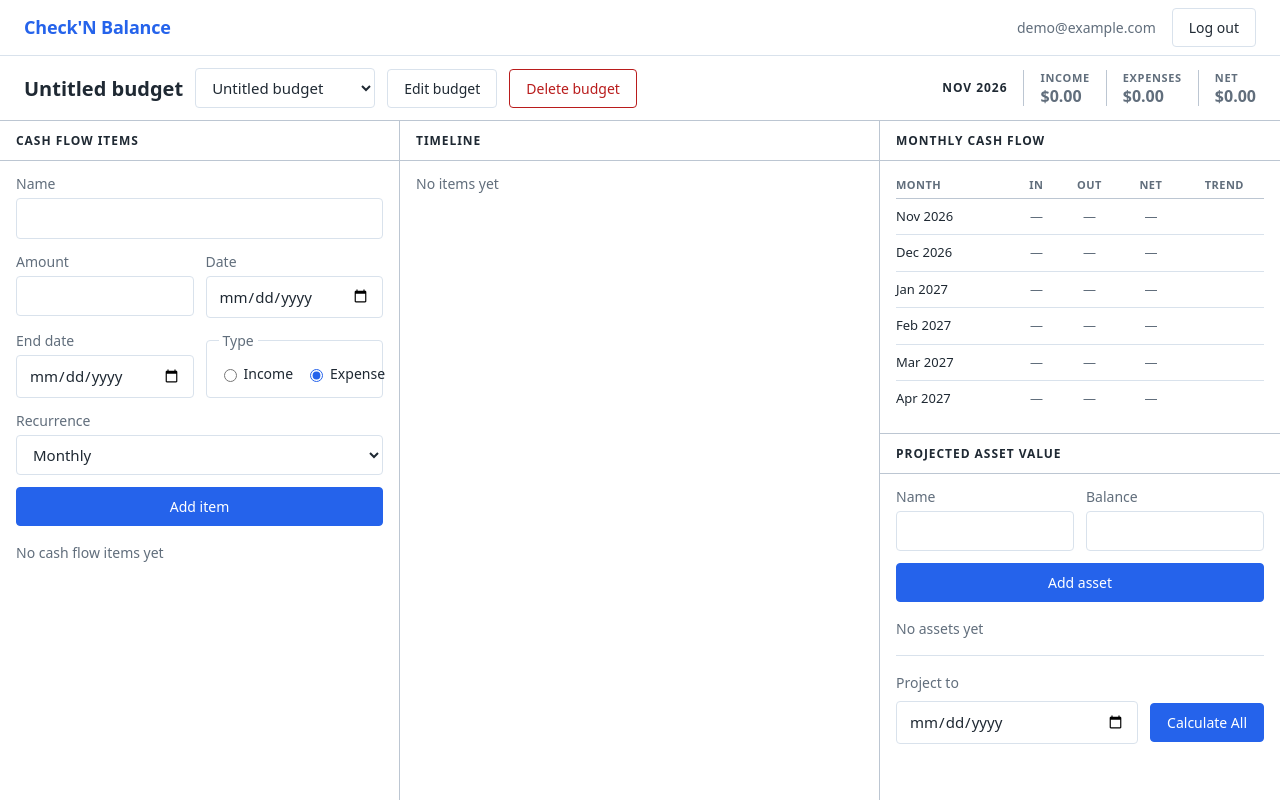
it: the add form › amount 0 shows the server's message and keeps what you typed
Type "Gym" into the 1st field labelled "Name" at (200, 218), box [16,198,383,238]
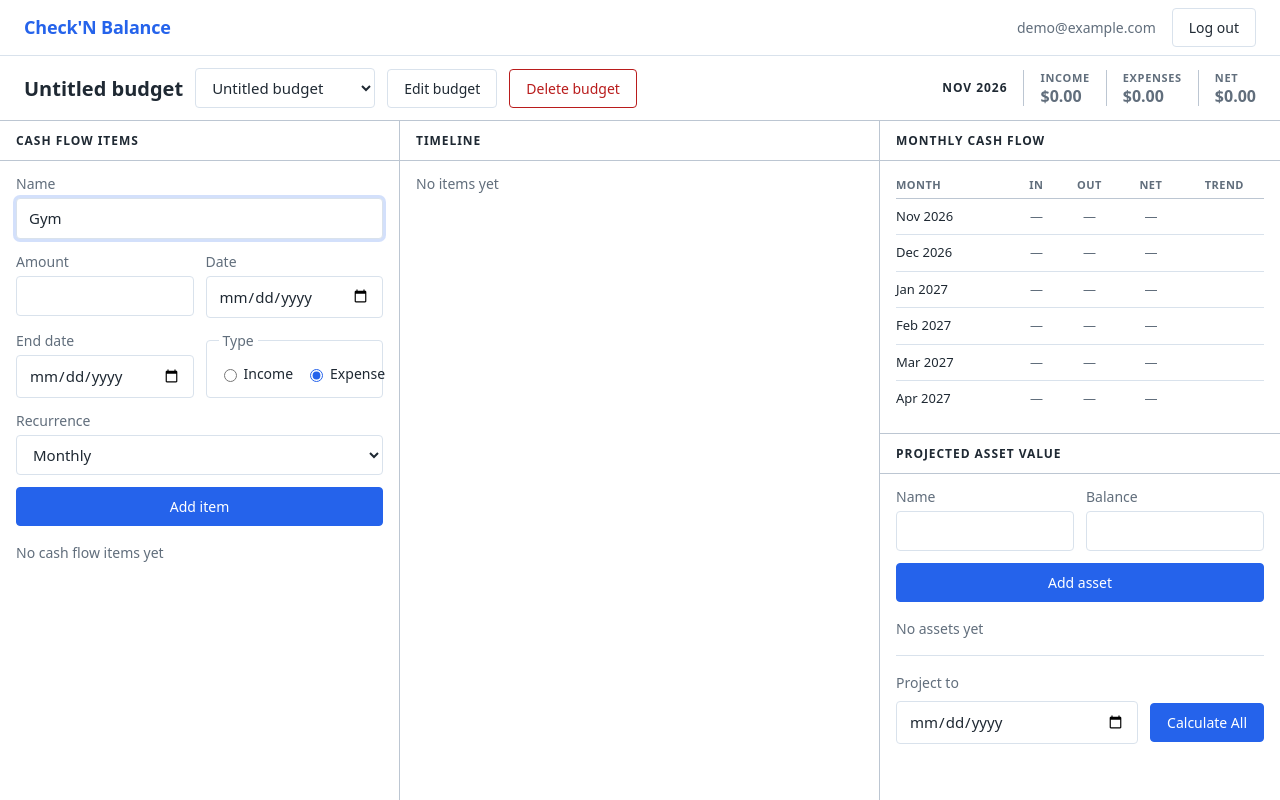
Type "0" into the number field labelled "Amount" at (105, 296), box [16,276,194,316]
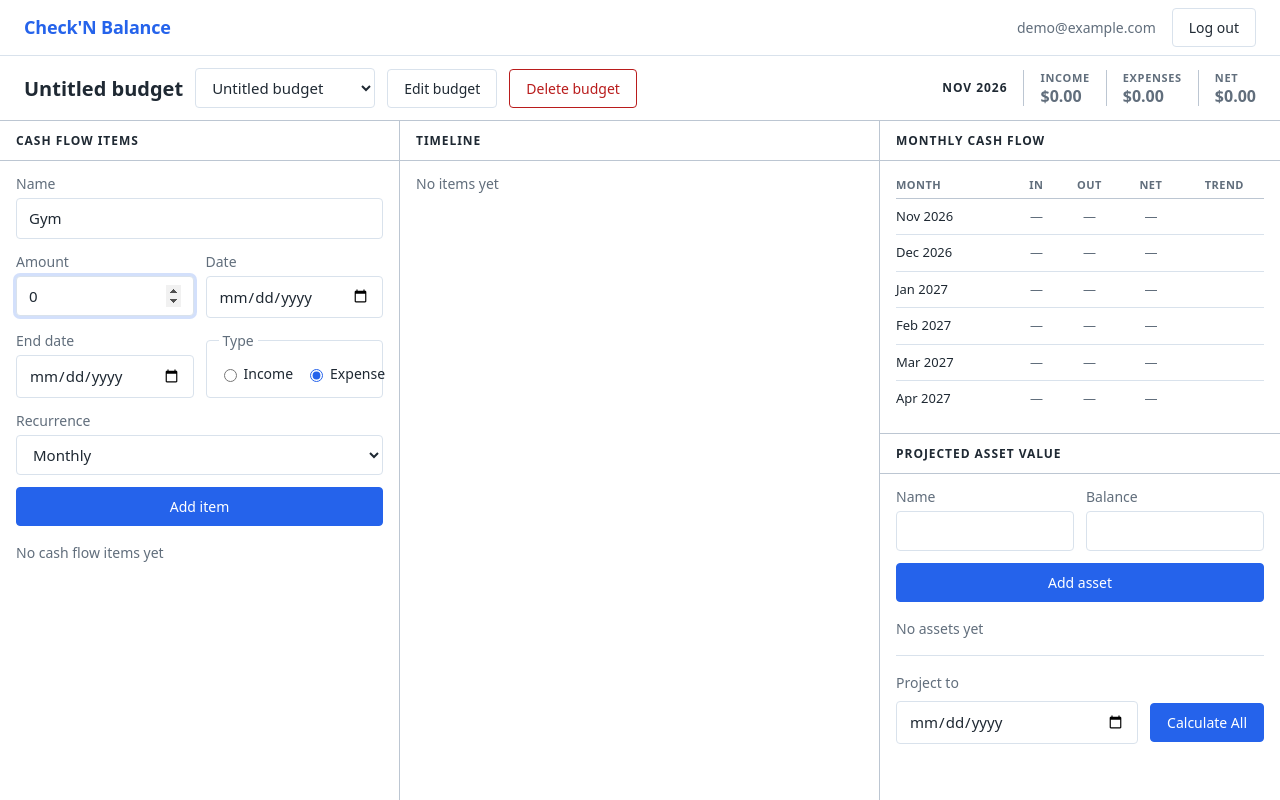
Type "2026-11-15" into the date field labelled "Date" at (294, 297), box [206,276,383,318]
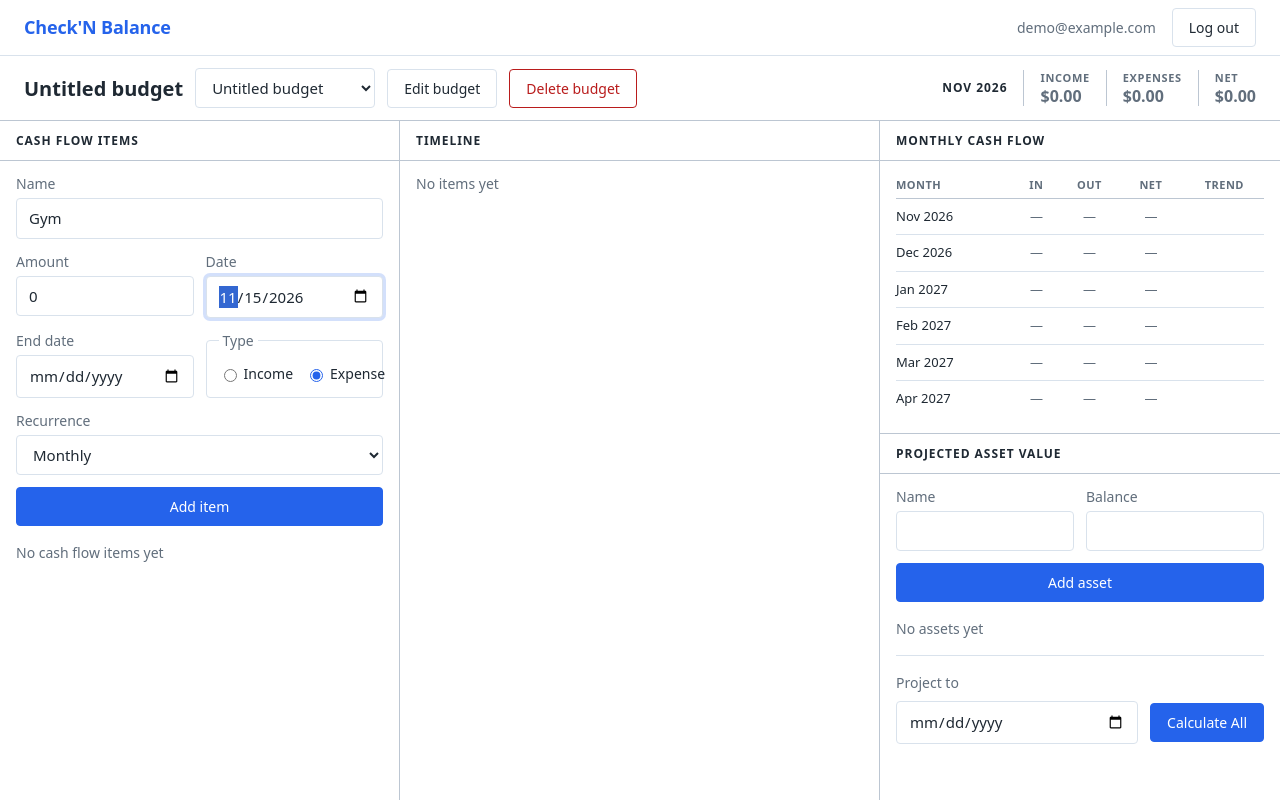
Click the button "Add item" at (200, 506), box [16,486,383,526]
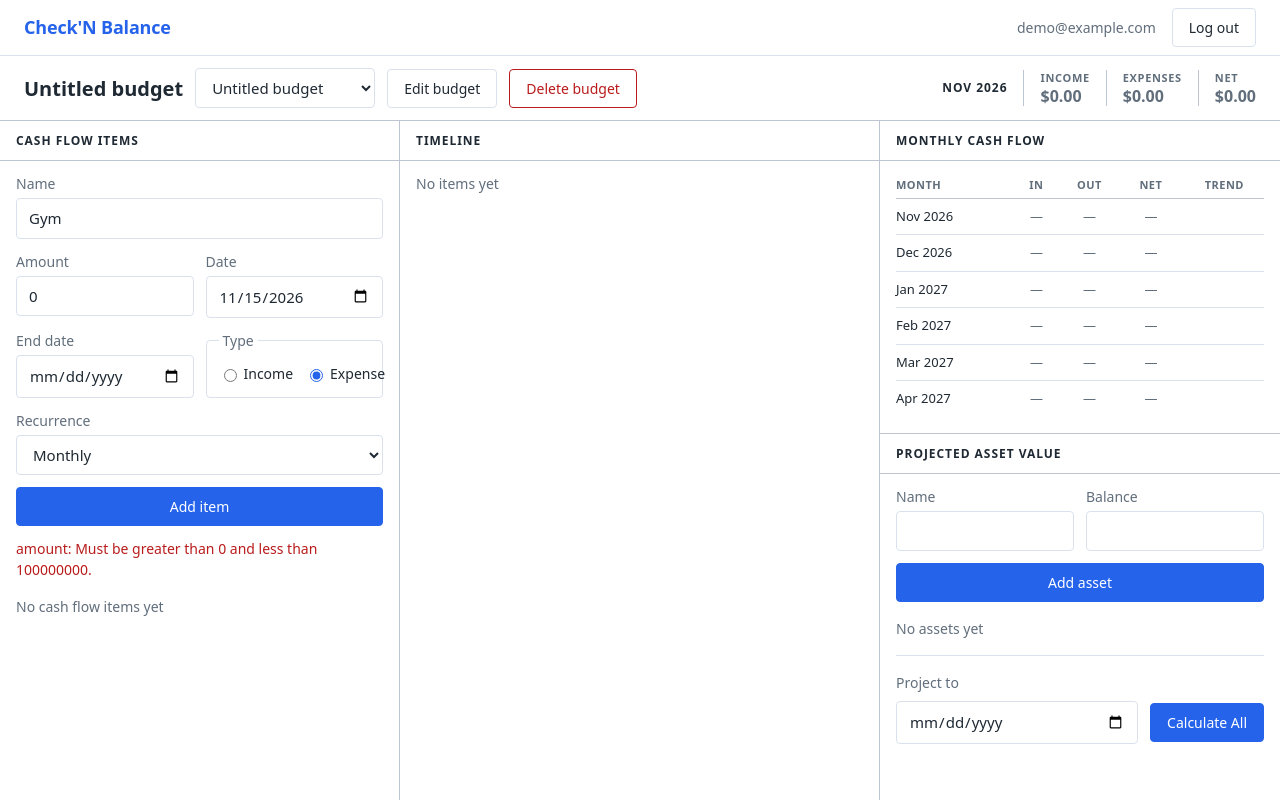
expect the text "No cash flow items yet" is shown: met, box [16,596,164,616]
expect the message shows "amount: Must be greater than 0": met, box [16,538,317,578]
